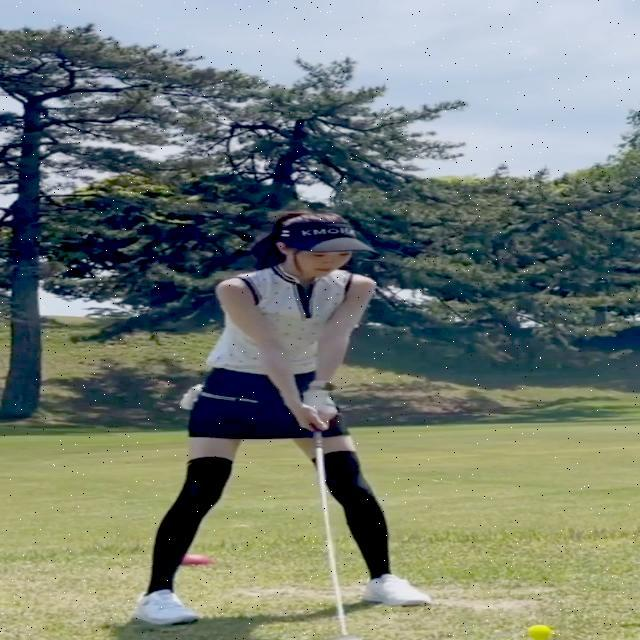golf ball: (527, 625, 552, 640)
golf club-handle: (313, 430, 360, 640)
golf club-head: (325, 633, 361, 640)
